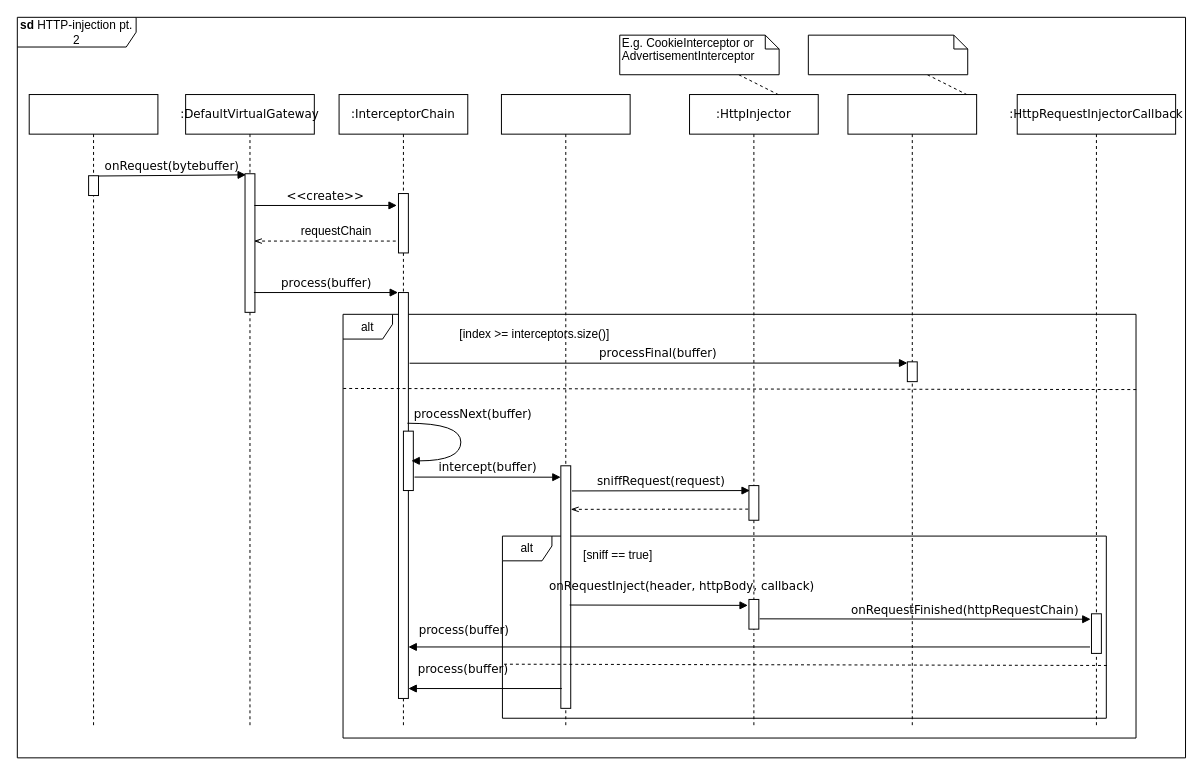
This 1203x775 diagram has some shape labels left out. The shapes that lost their labels are listed below. From the top down, each one's box as (x1, y1, x2, y2) in pixels, then its label:
(807, 34, 968, 75): Responsible for sending packet to remote host
(28, 94, 158, 728): :NetBareVirtualGateway
(500, 94, 630, 728): :HttpInjectInterceptor
(847, 94, 977, 728): :TunnelFlow
